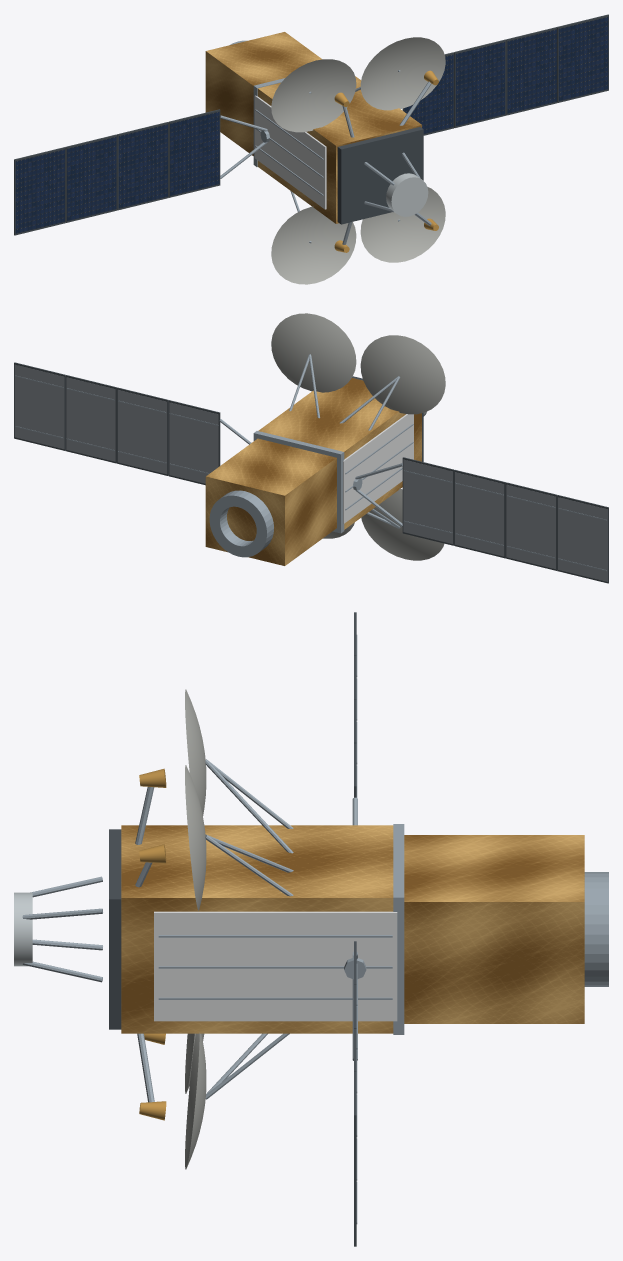
File: ref-amos-hp-39237.glb
The picture shows the model from 3 angles, top to bottom: view 1: azimuth 30°, elevation 25°; view 2: azimuth 150°, elevation 25°; view 3: azimuth 270°, elevation 25°; orthographic projection. The views are drawn at different scales.
Parts seen in each view (by area): view 1: Solar cell panel (×8), Communications reflector (×4), Service module, Earth-facing deck, Payload module, Radiator face, Solar panel frame (×7), Antenna tower platform; view 2: Rear array substrate (×8), Communications reflector (×3), Service module, Payload module, Solar panel frame (×8), Radiator face, Launch adapter ring, Module interface; view 3: Service module, Payload module, Radiator face, Communications reflector (×3), Launch adapter ring, Earth-facing deck, Module interface, Antenna tower platform.
Part boxes in pixels (box(x1,y1,x2,y2)): Solar cell panel (×8): box(15, 17, 608, 233); Communications reflector (×4): box(271, 37, 445, 284); Service module: box(205, 32, 322, 155); Earth-facing deck: box(337, 127, 423, 224); Payload module: box(257, 76, 421, 223); Radiator face: box(254, 95, 326, 209); Solar panel frame (×7): box(14, 14, 608, 235); Antenna tower platform: box(386, 173, 428, 216); Rear array substrate (×8): box(14, 364, 607, 581); Communications reflector (×3): box(271, 313, 445, 560); Service module: box(205, 438, 336, 565); Payload module: box(258, 378, 421, 529); Solar panel frame (×8): box(14, 362, 608, 583); Radiator face: box(343, 414, 413, 523); Launch adapter ring: box(209, 490, 273, 557); Module interface: box(253, 431, 344, 533); Service module: box(404, 835, 584, 1023); Payload module: box(121, 825, 393, 1033); Radiator face: box(154, 911, 397, 1021); Communications reflector (×3): box(185, 689, 206, 1169); Launch adapter ring: box(584, 872, 608, 986); Earth-facing deck: box(109, 829, 121, 1029); Module interface: box(393, 824, 404, 1034); Antenna tower platform: box(14, 892, 32, 966).
Size of the model in its own units: 17.29 by 6.19 by 8.64.
Materials: 9 (2 with a texture image).
